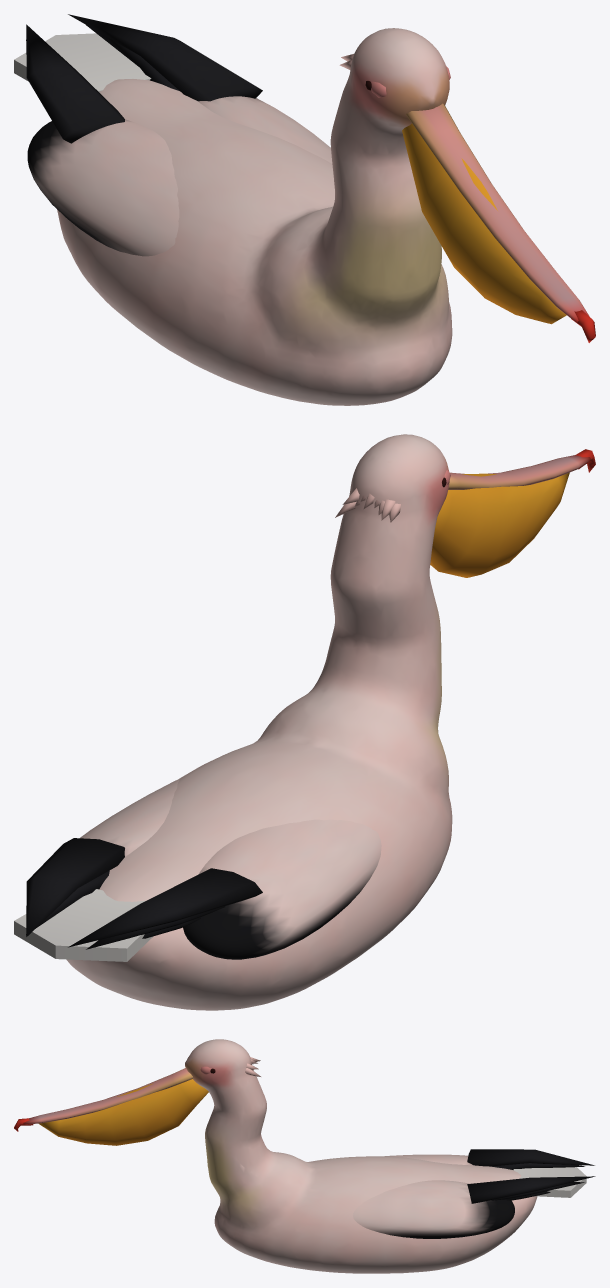
The model's file is WhitePelican.fbx.
The picture shows the model from 3 angles, top to bottom: view 1: azimuth 30°, elevation 25°; view 2: azimuth 150°, elevation 25°; view 3: azimuth 270°, elevation 25°; orthographic projection. The views are drawn at different scales.
Visible parts, largest first — view 1: WhitePelican; view 2: WhitePelican; view 3: WhitePelican.
Part boxes in pixels (<box>): WhitePelican: <box>14,14,595,405</box>; WhitePelican: <box>14,434,595,1010</box>; WhitePelican: <box>14,1039,595,1273</box>.
Bounding box in the file's own units: 0.4967 × 0.7505 × 1.84.
